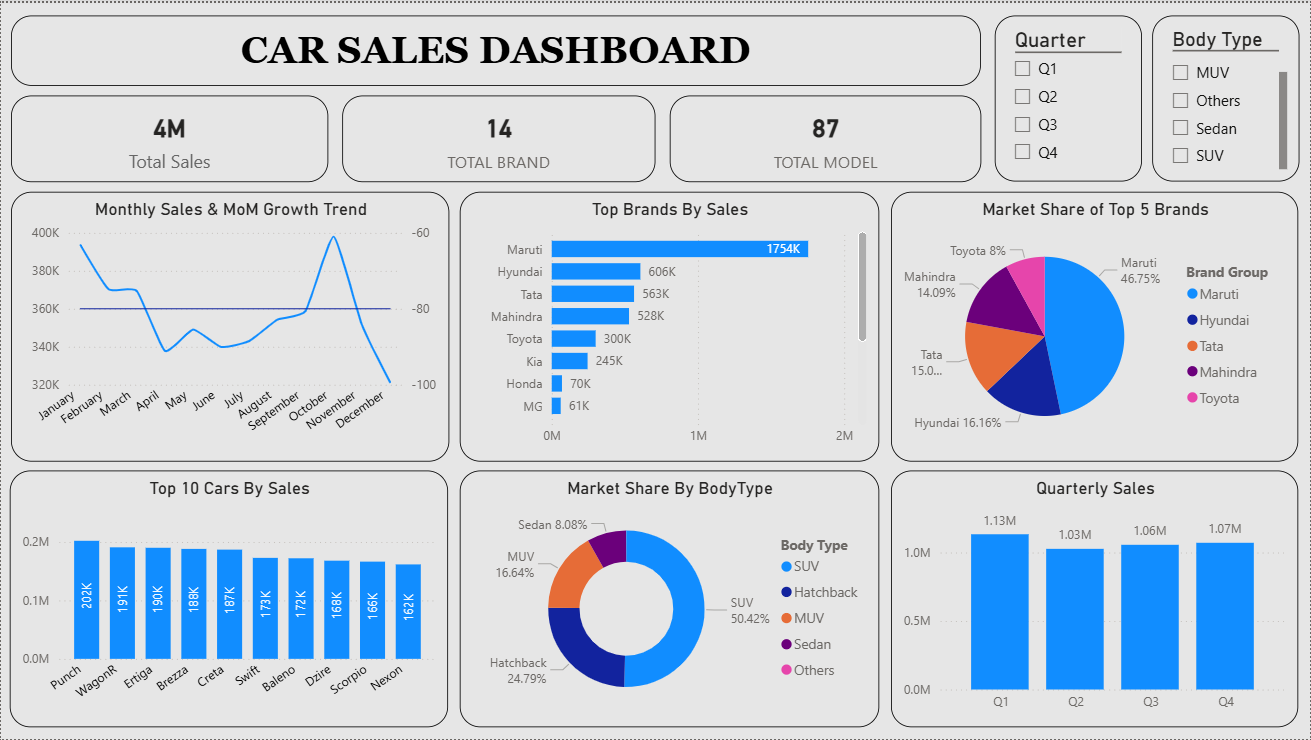

The page's visual inventory and layout, read from the dashboard file:
{"tool":"powerbi","page":{"name":"Page 1","canvas":[1280,720],"ordinal":0},"visuals":[{"type":"textbox","box":[10,12.5,948.8,68.8],"z":0},{"type":"slicer","fields":{"Values":["Sheet1.Quarter"]},"box":[972,12.5,144,162.5],"z":1000},{"type":"card","title":"TOTAL SALES","fields":{"Values":["Sheet1.Total Sales"]},"box":[10,90,310,85],"z":2000},{"type":"slicer","fields":{"Values":["Sheet1.Body Type"]},"box":[1126.2,12.5,143.8,162.5],"z":3000},{"type":"card","fields":{"Values":["Sheet1.Brand Count"]},"box":[333.8,90,306.2,85],"z":4000},{"type":"card","fields":{"Values":["Sheet1.modelcount"]},"box":[653.8,90,305,85],"z":5000},{"type":"lineChart","title":"Monthly Sales & MoM Growth Trend","fields":{"Y":["Sum(Sheet1.Sales)"],"Y2":["Sum(Sheet1.MoM %)"],"Category":["Month_Lookup.Month Name"]},"box":[10,185,428.8,263.8],"z":6000},{"type":"barChart","title":"Top Brands By Sales","fields":{"Category":["Sheet1.Make"],"Y":["Sum(Sheet1.Sales)"]},"box":[448.8,185,410,263.8],"z":7000},{"type":"donutChart","title":"Market Share By BodyType","fields":{"Y":["Sum(Sheet1.Sales)"],"Category":["Sheet1.Body Type"]},"box":[448.8,457.5,410,251.2],"z":8000},{"type":"clusteredColumnChart","title":"Top 10 Cars By Sales","fields":{"Y":["Sum(Sheet1.Sales)"],"Category":["Sheet1.Model"]},"box":[8.8,457.5,428.8,251.2],"z":9000},{"type":"clusteredColumnChart","title":"Quarterly Sales","fields":{"Y":["Sum(Sheet1.Sales)"],"Category":["Quarter_Lookup.Quarter"]},"box":[871.2,457.5,398.8,251.2],"z":11000},{"type":"pieChart","title":"Market Share of Top 5 Brands","fields":{"Category":["Sheet1.Brand Group"],"Y":["Sum(Sheet1.Sales)"]},"box":[871.2,185,398.8,263.8],"z":11001}]}

Visuals, with their boxes in screenshot pixels (x1, y1, x2, y2), scaled from the page's 1280x720 canvas onto the 1311x740 screenshot:
textbox: 10 13 982 84
slicer - Sheet1.Quarter: 996 13 1143 180
"TOTAL SALES" card: 10 92 328 180
slicer - Sheet1.Body Type: 1153 13 1301 180
card - Sheet1.Brand Count: 342 92 656 180
card - Sheet1.modelcount: 670 92 982 180
"Monthly Sales & MoM Growth Trend" lineChart: 10 190 449 461
"Top Brands By Sales" barChart: 460 190 880 461
"Market Share By BodyType" donutChart: 460 470 880 728
"Top 10 Cars By Sales" clusteredColumnChart: 9 470 448 728
"Quarterly Sales" clusteredColumnChart: 892 470 1301 728
"Market Share of Top 5 Brands" pieChart: 892 190 1301 461
